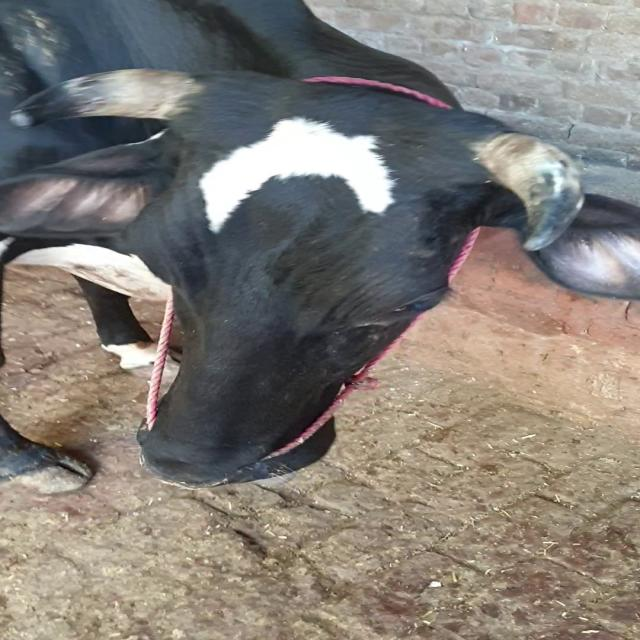cowFace: (104, 89, 585, 493)
